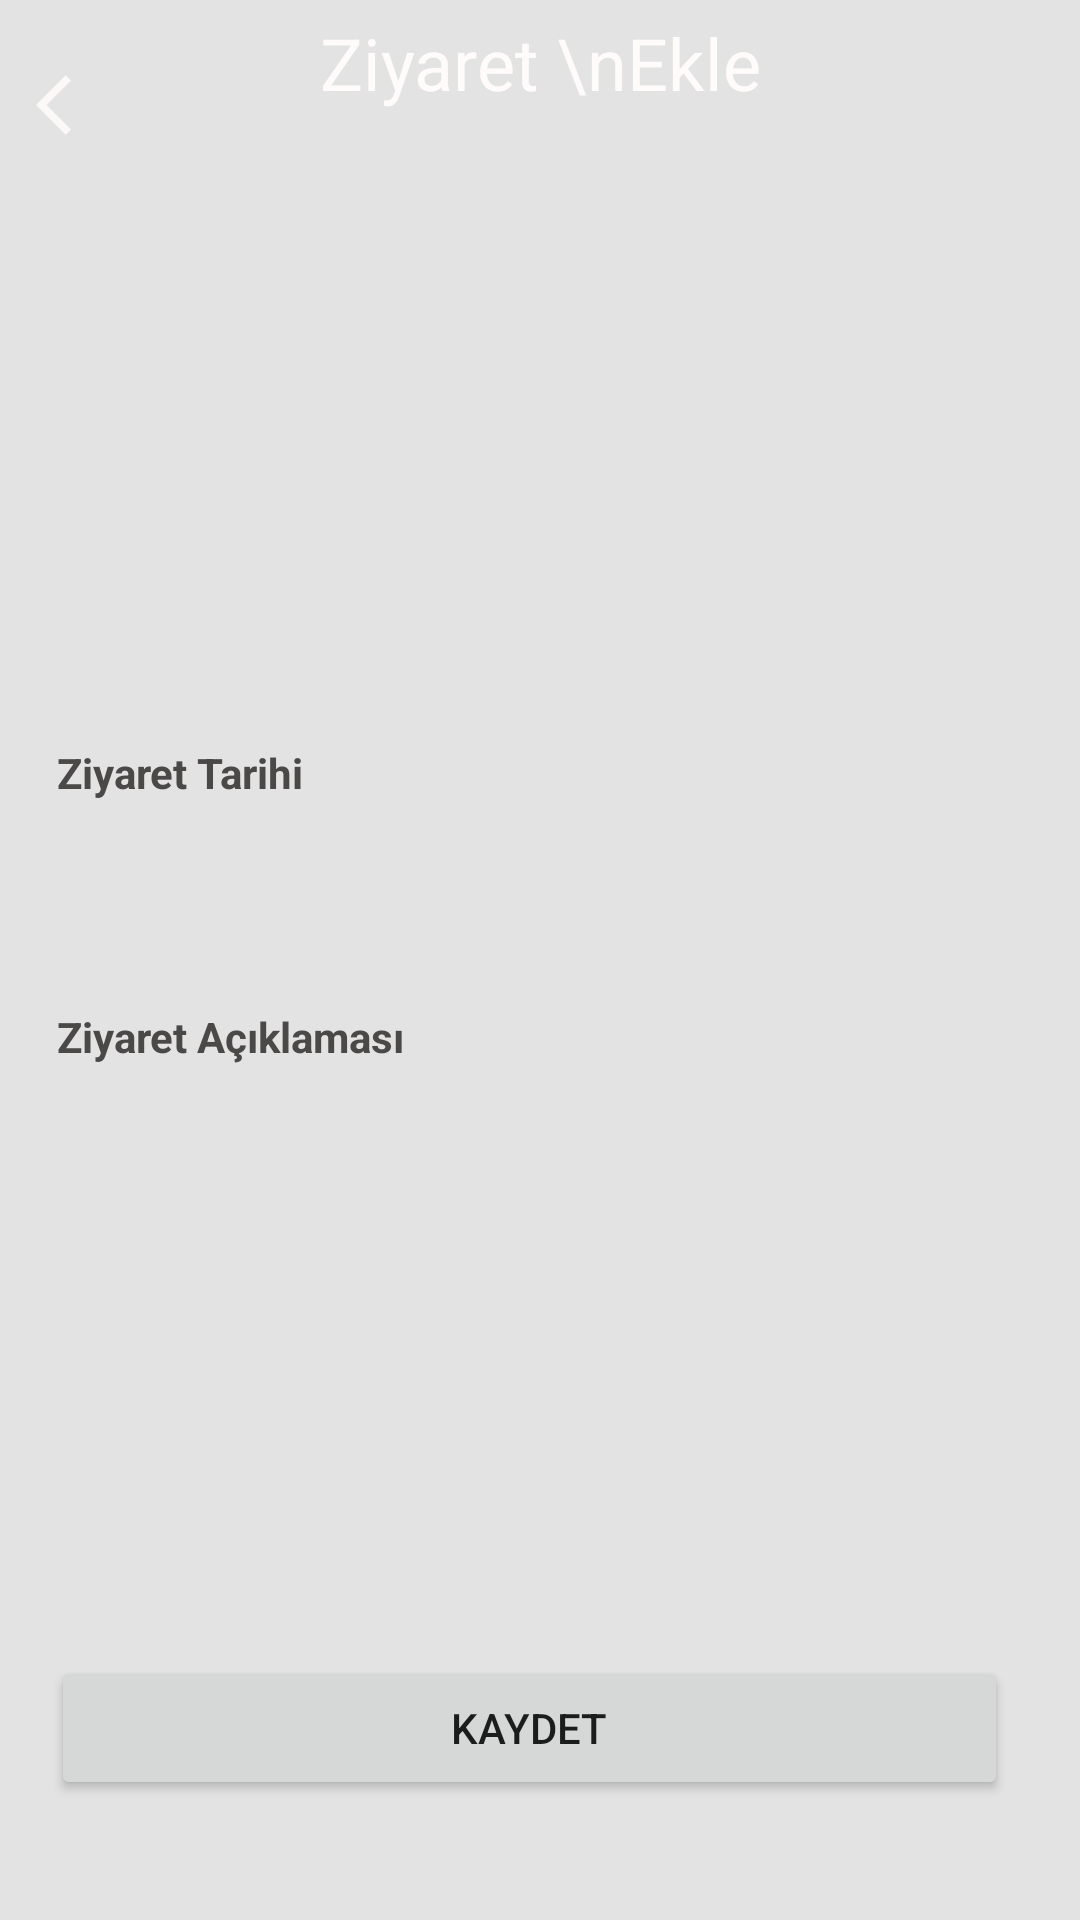

Icon click points for this 1080x1920 phone screenshot, format point (x, y):
back: point (53, 105)
